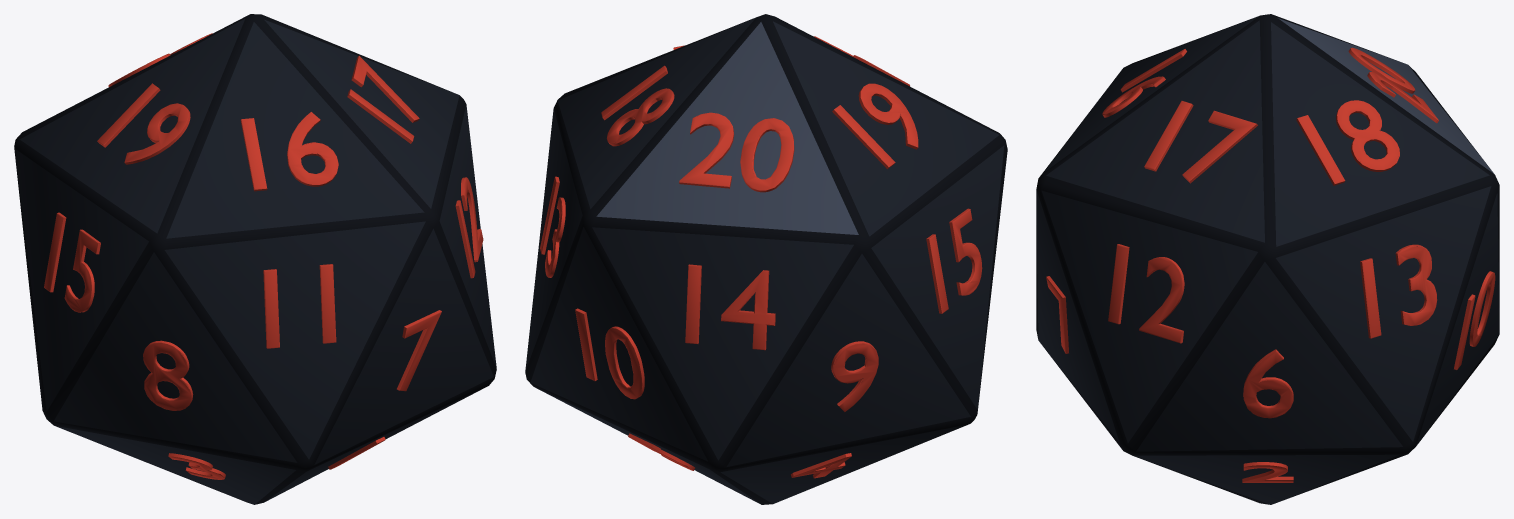
The picture shows the model from 3 angles, left to right: view 1: azimuth 30°, elevation 25°; view 2: azimuth 150°, elevation 25°; view 3: azimuth 270°, elevation 25°; orthographic projection.
Visible parts, largest first — view 1: D20; view 2: D20; view 3: D20.
Boxes of the visible parts, <box> form: D20: <box>14,14,496,504</box>; D20: <box>525,14,1007,504</box>; D20: <box>1036,14,1499,504</box>.
Bounding box in the file's own units: 1.77 × 1.96 × 1.69.
